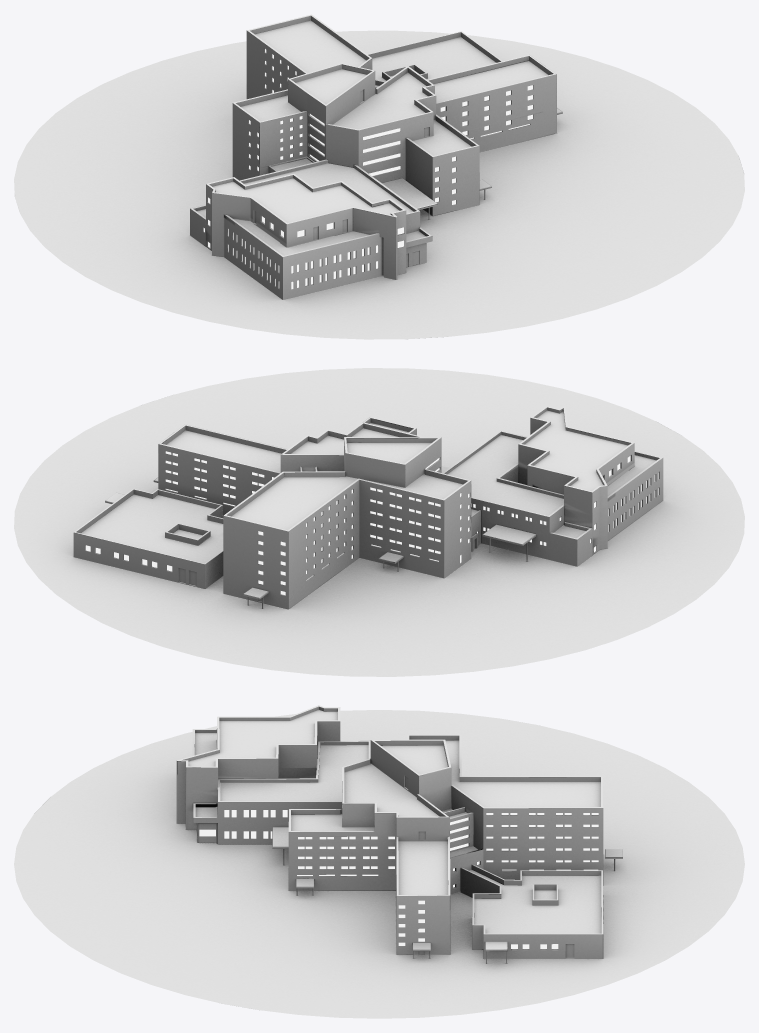
The model's file is kavala_building25.glb.
3 views of the same model, one above another, from view 1: azimuth 30°, elevation 25°; view 2: azimuth 150°, elevation 25°; view 3: azimuth 270°, elevation 25° (orthographic).
Parts seen in each view (by area): view 1: building06; view 2: building06; view 3: building06.
Boxes of the visible parts, x1=… form: building06: x1=14, y1=14, x2=744, y2=339; building06: x1=14, y1=368, x2=744, y2=676; building06: x1=14, y1=705, x2=744, y2=1018.
Bounding box in the file's own units: 13.45 × 1.95 × 13.45.
2 materials, 1 textured.
